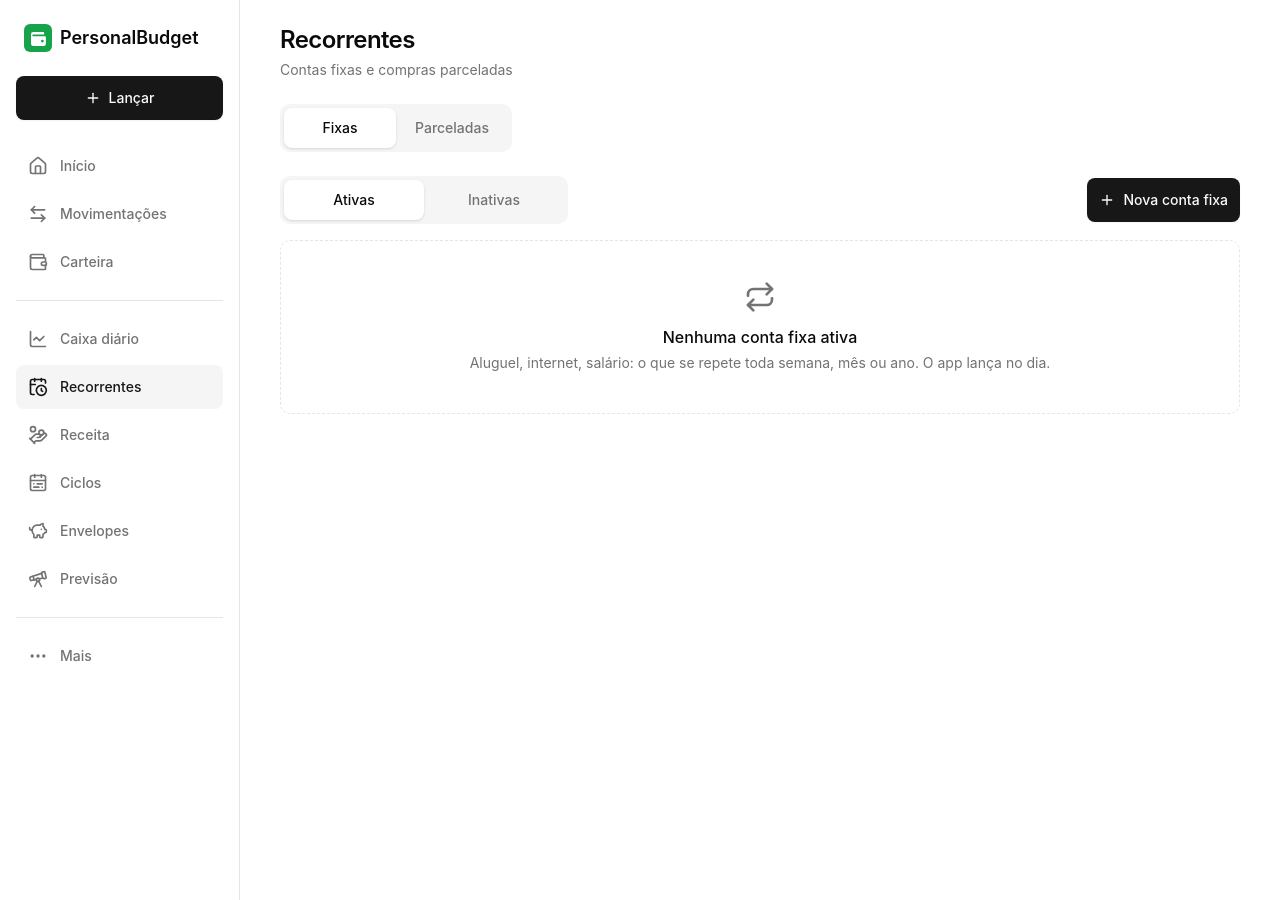
Test case: Recorrentes › Contas fixas › should create a monthly bill with sorted days and an explicit start date
Click the button "Nova conta fixa" at (1164, 200), box 1088,178 -> 1240,222
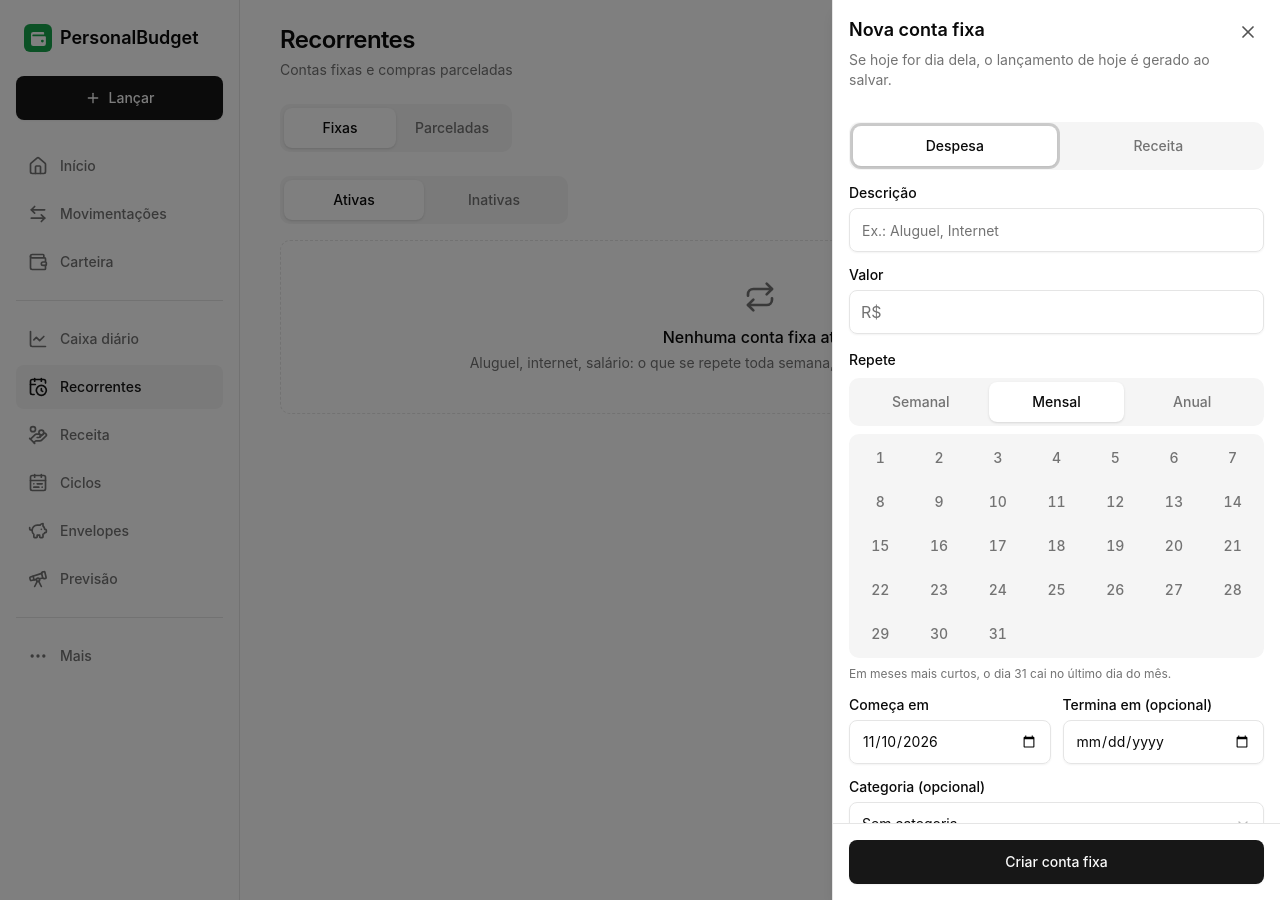
Type "Aluguel" into the field labelled "Descrição" at (1056, 230), box 849,208 -> 1264,252
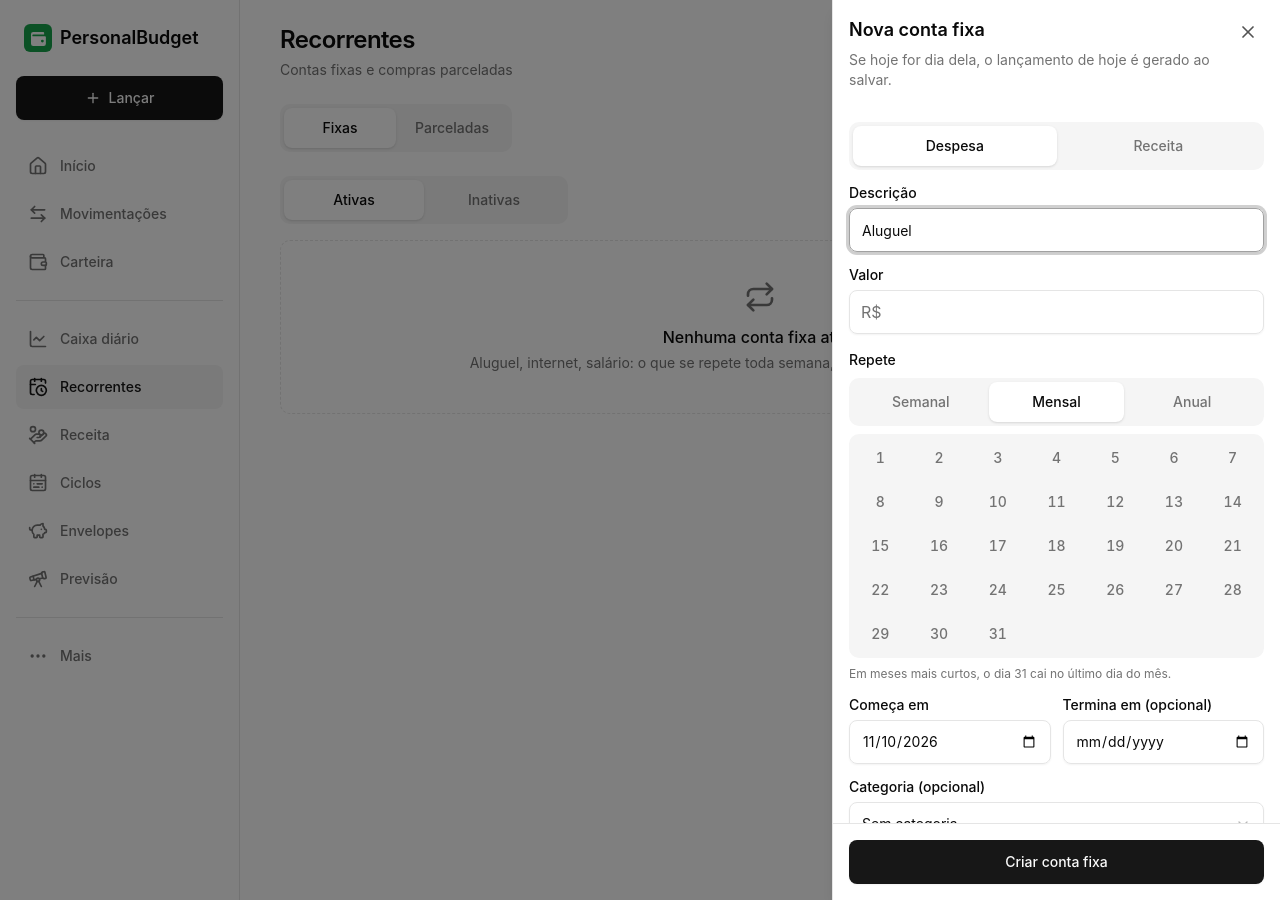
Type "1500" into the field labelled "Valor" at (1056, 312), box 849,290 -> 1264,334
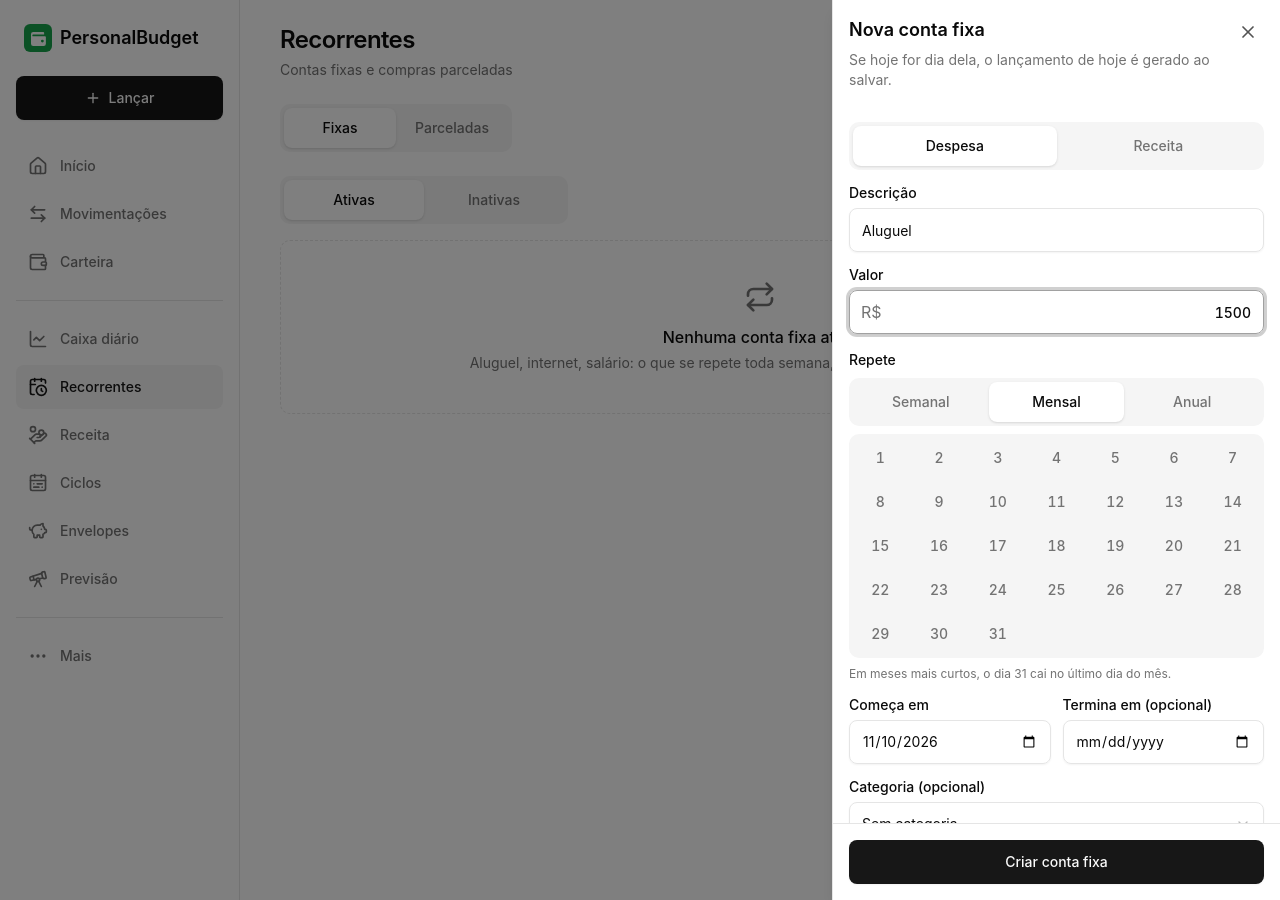
Click the button named "Dia 20" at (1174, 546), box 1147,526 -> 1201,566
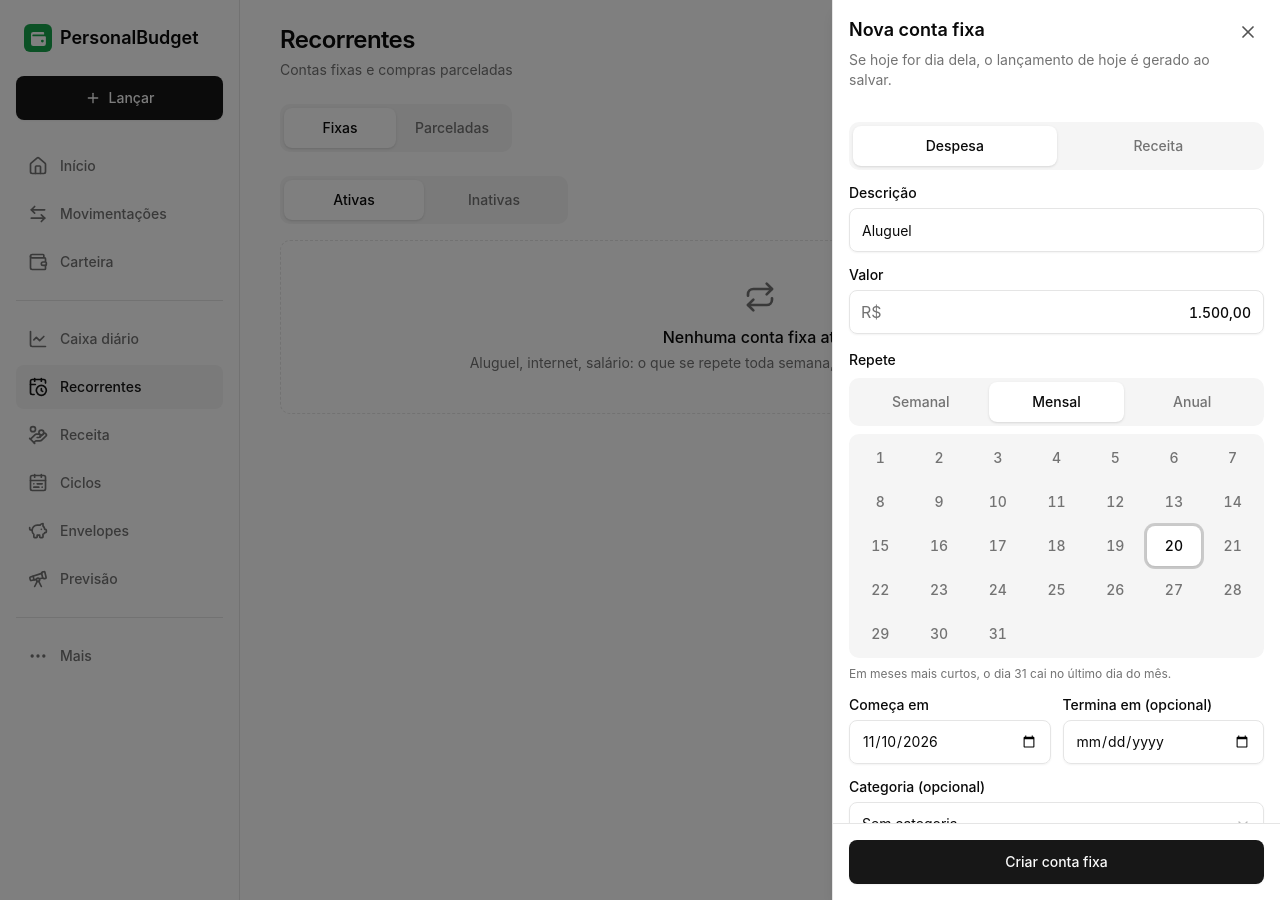
Click the button named "Dia 5" at (1115, 458), box 1088,438 -> 1142,478
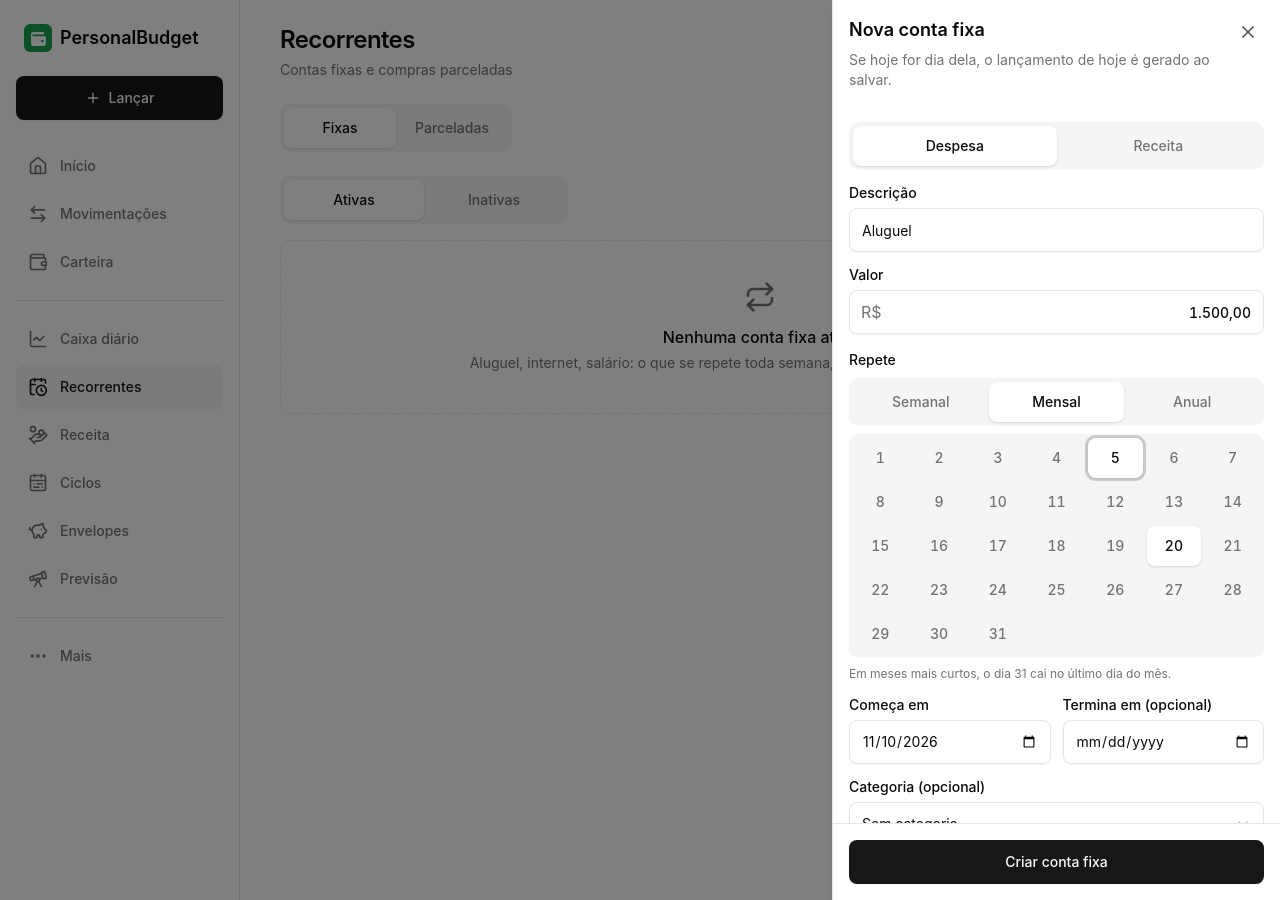
Click the button "Criar conta fixa" at (1056, 862), box 849,840 -> 1264,884
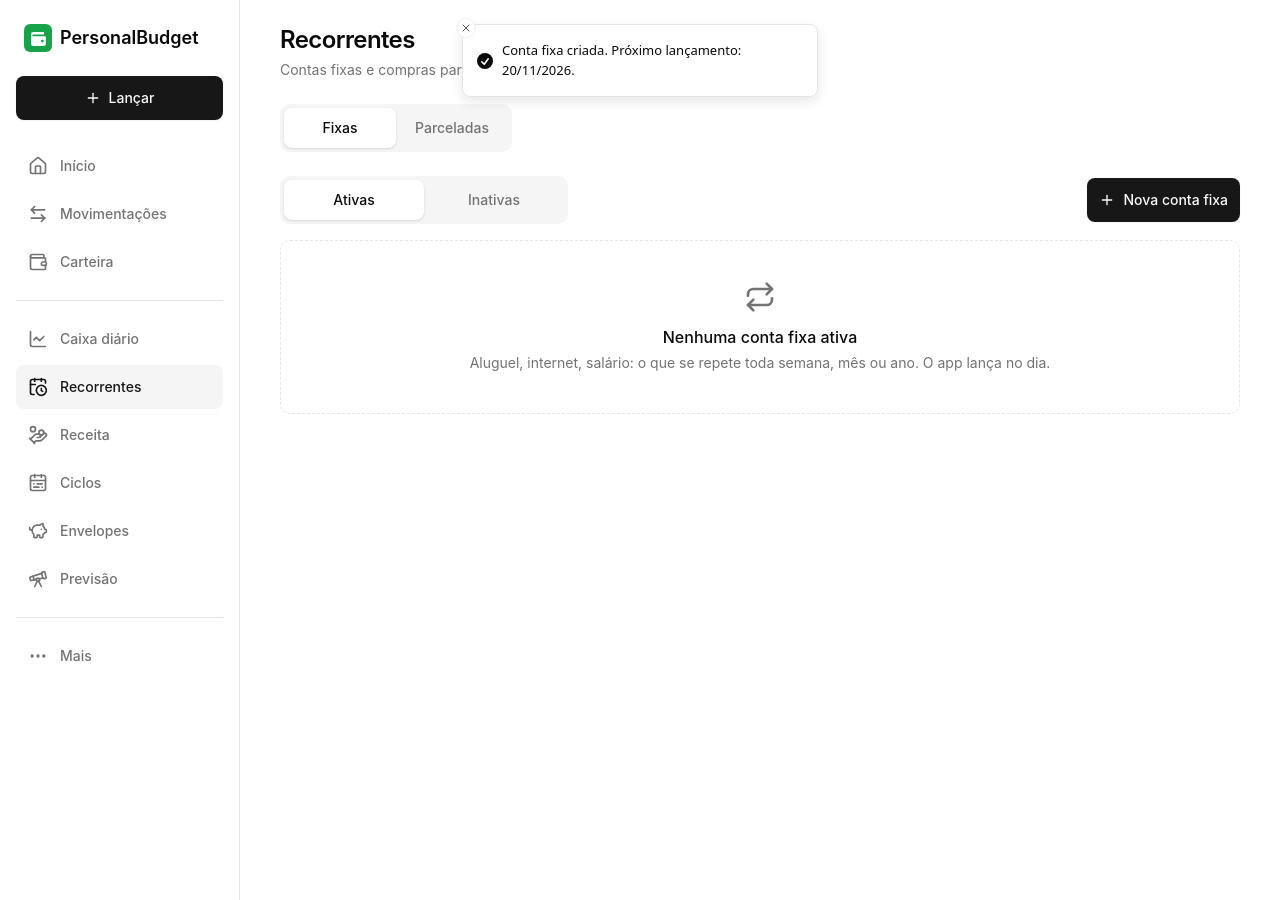
Expected: the text "Conta fixa criada. Próximo lançamento: 20/11/2026." is shown, 502,41 -> 741,78
